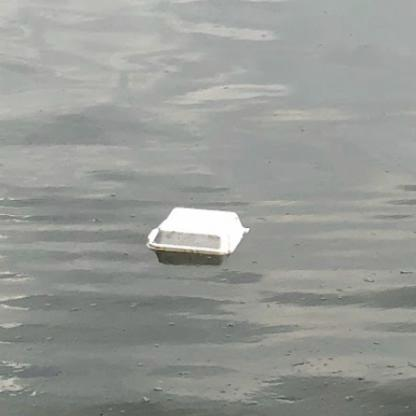Plastic: (144, 204, 251, 257)
